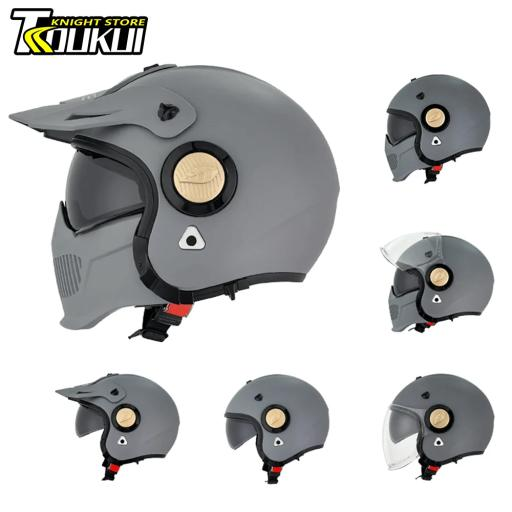helmet-detection: (6, 63, 364, 348), (374, 356, 504, 477), (380, 64, 501, 189)
